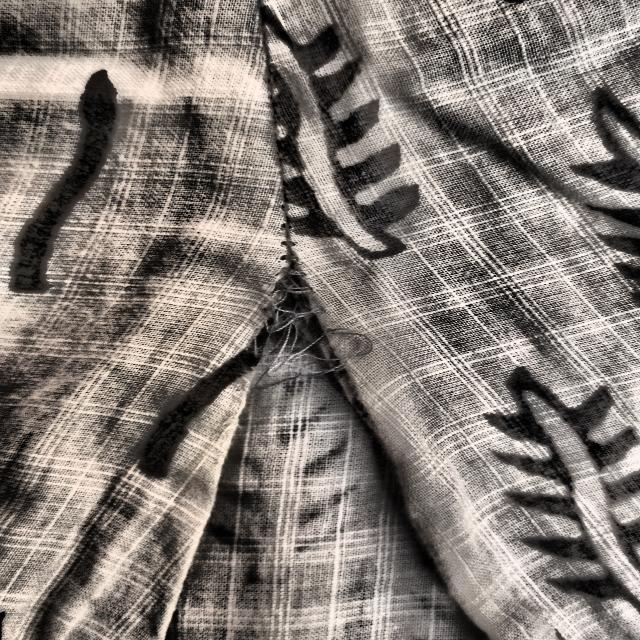Stitch: (222, 240, 476, 470)
